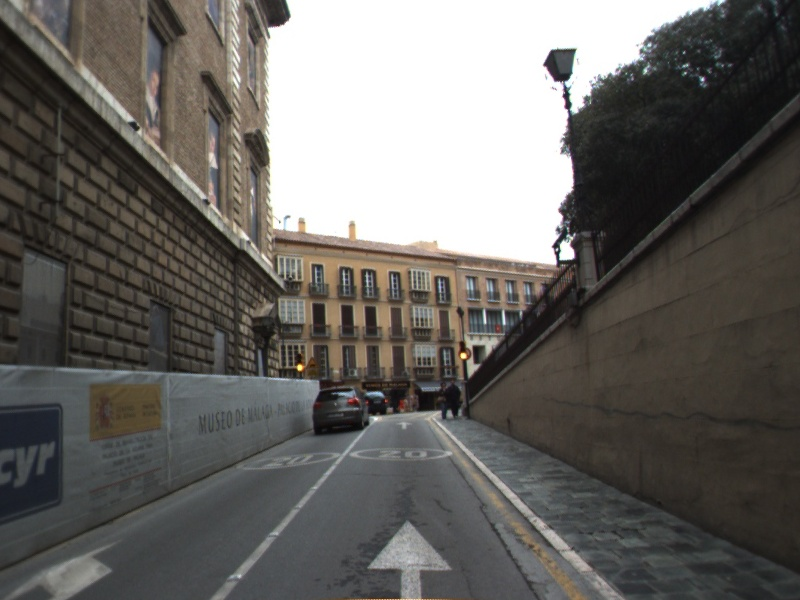LEFT: (1, 534, 130, 600)
STRAIGHT: (364, 517, 457, 600), (394, 420, 414, 431)
